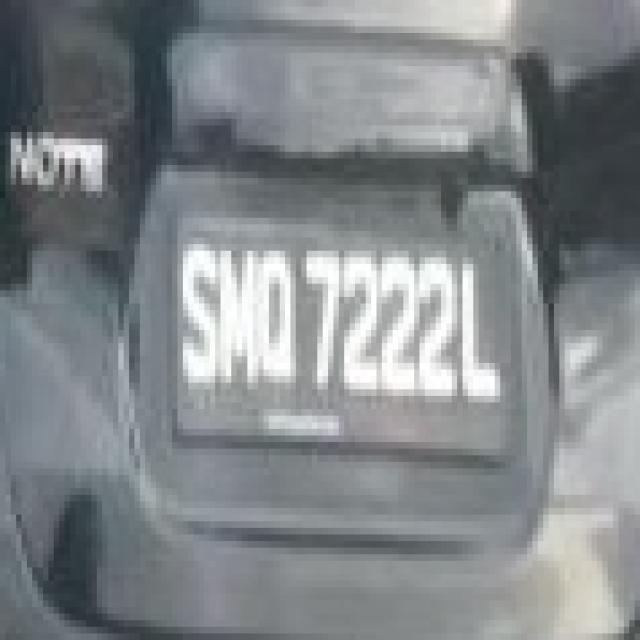2: (380, 251, 420, 398), (343, 248, 381, 398), (422, 255, 460, 400)
7: (302, 248, 341, 398)
L: (462, 258, 502, 403)
M: (217, 243, 259, 394)
Q: (260, 245, 302, 396)
S: (178, 238, 218, 391)
